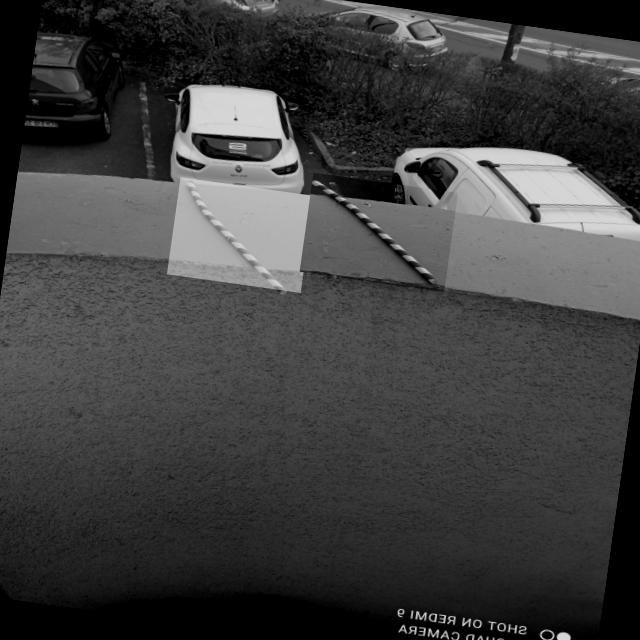Straw: (300, 174, 458, 292), (166, 178, 314, 292)
